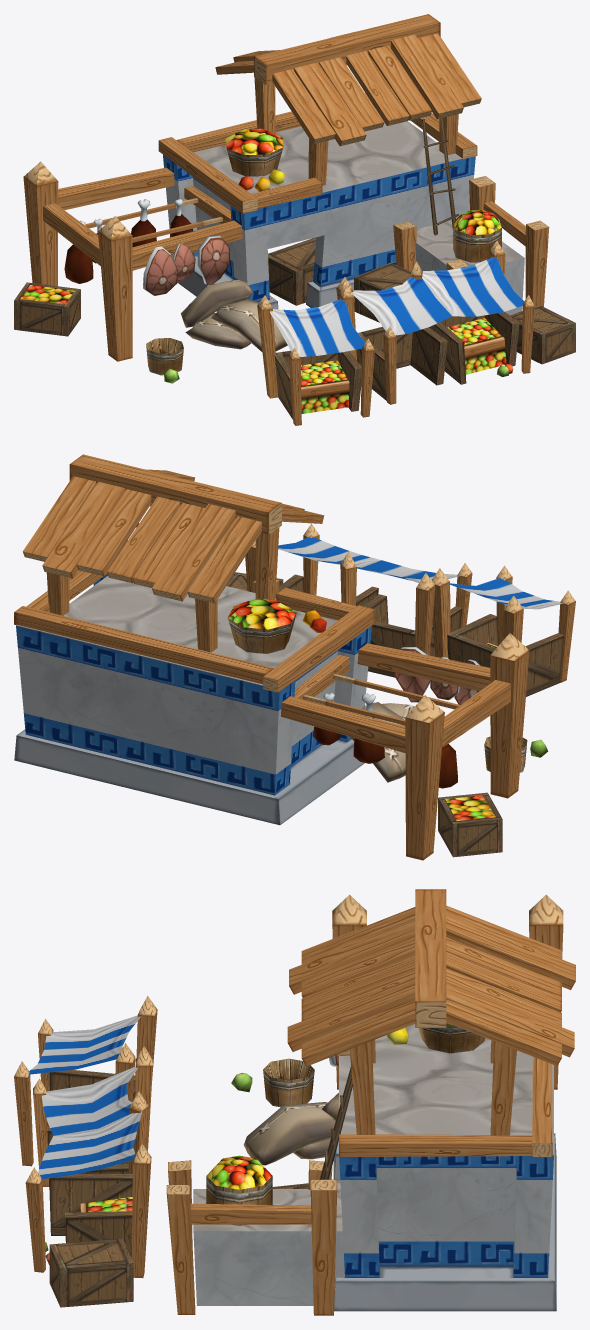
Rendered from mSundryHouse2.FBX.
The picture shows the model from 3 angles, top to bottom: view 1: azimuth 30°, elevation 25°; view 2: azimuth 150°, elevation 25°; view 3: azimuth 270°, elevation 25°; orthographic projection. The views are drawn at different scales.
Visible parts, largest first — view 1: house; view 2: house; view 3: house.
Part boxes in pixels (x1,y1,x2,y2): house: (14,14,575,425); house: (14,454,575,860); house: (14,889,575,1315).
Bounding box in the file's own units: 149 × 80.5 × 134.
Materials: 8 (8 with a texture image).
